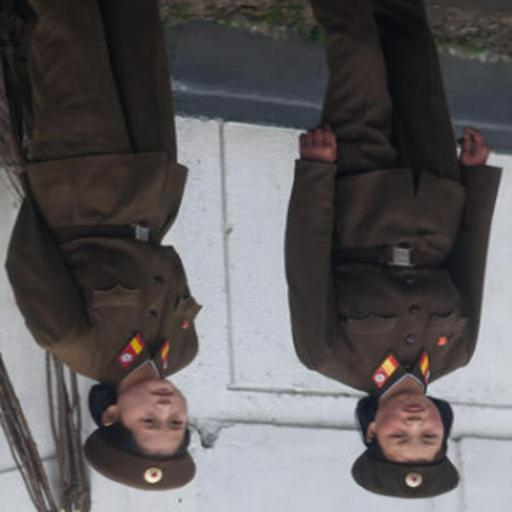north army: (2, 3, 236, 489), (273, 1, 505, 491)
